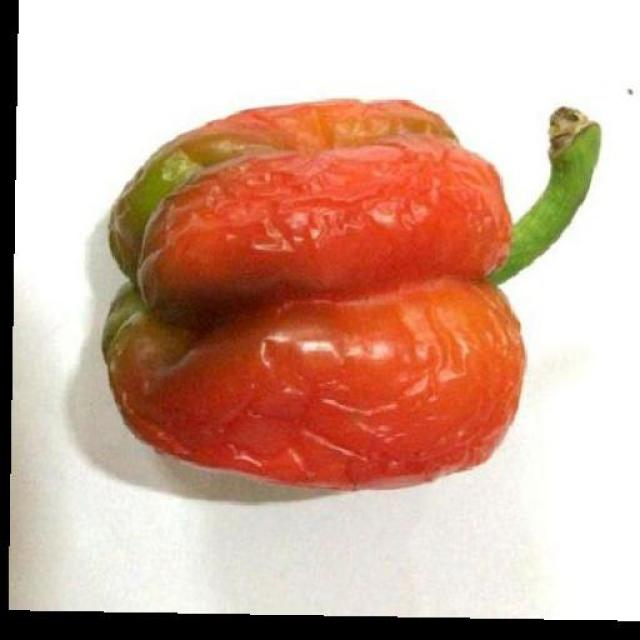Stale_Capsicum: (77, 90, 554, 508)
